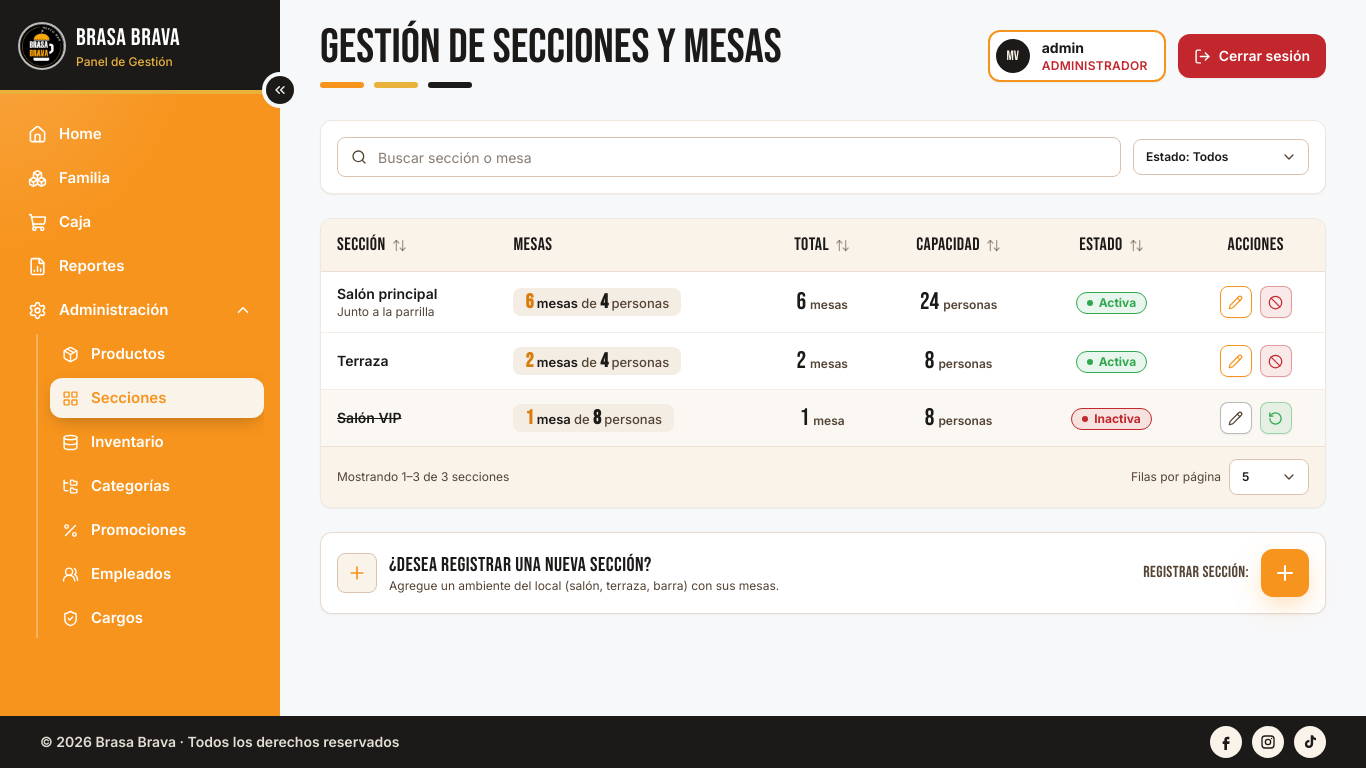
Test: Gestión de secciones y mesas › modifica mesas conservando sus ids
The image size is (1366, 768).
Expected: the text "Salón principal" is shown, [337,285,437,302]
Click the button named "Modificar Terraza" at (1236, 361), box [1220,345,1252,377]
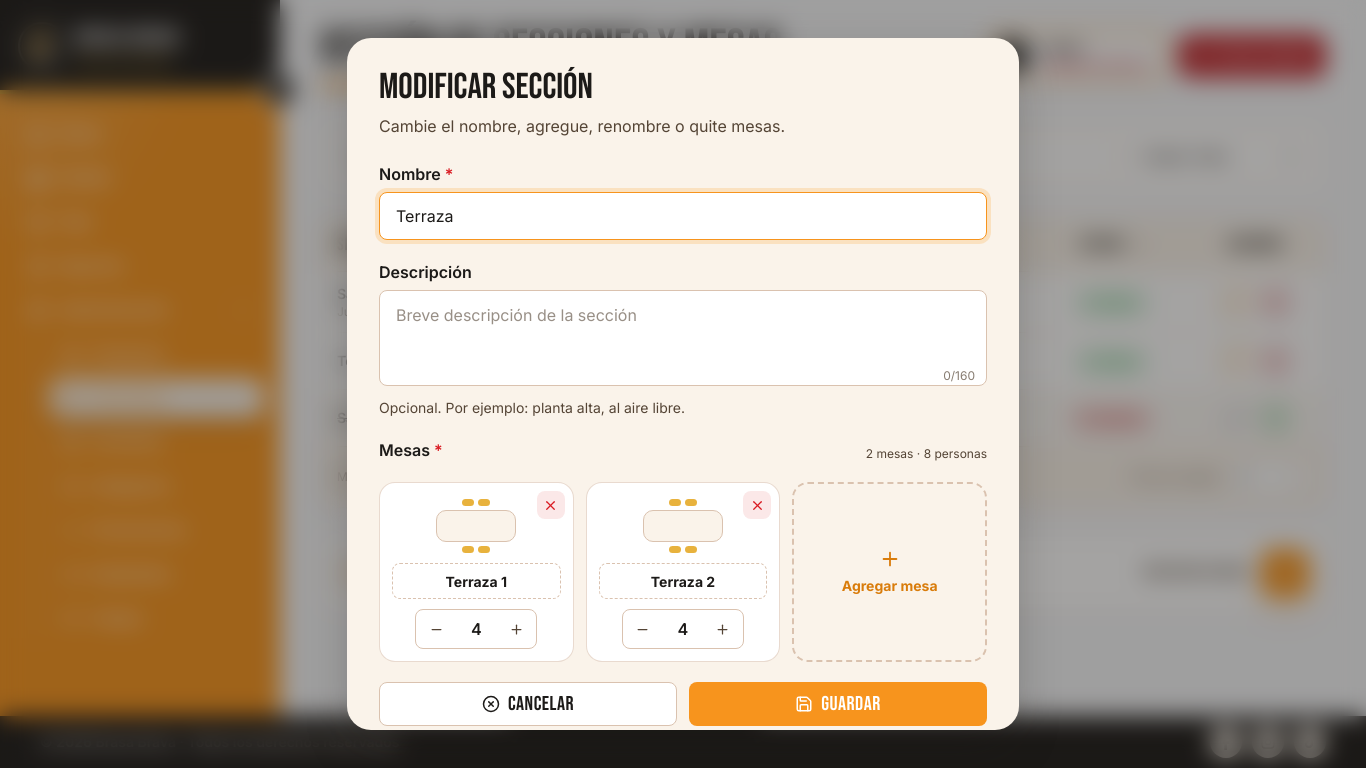
Click the button named "Restar capacidad de Terraza 1" at (436, 629), box [416,609,456,649]
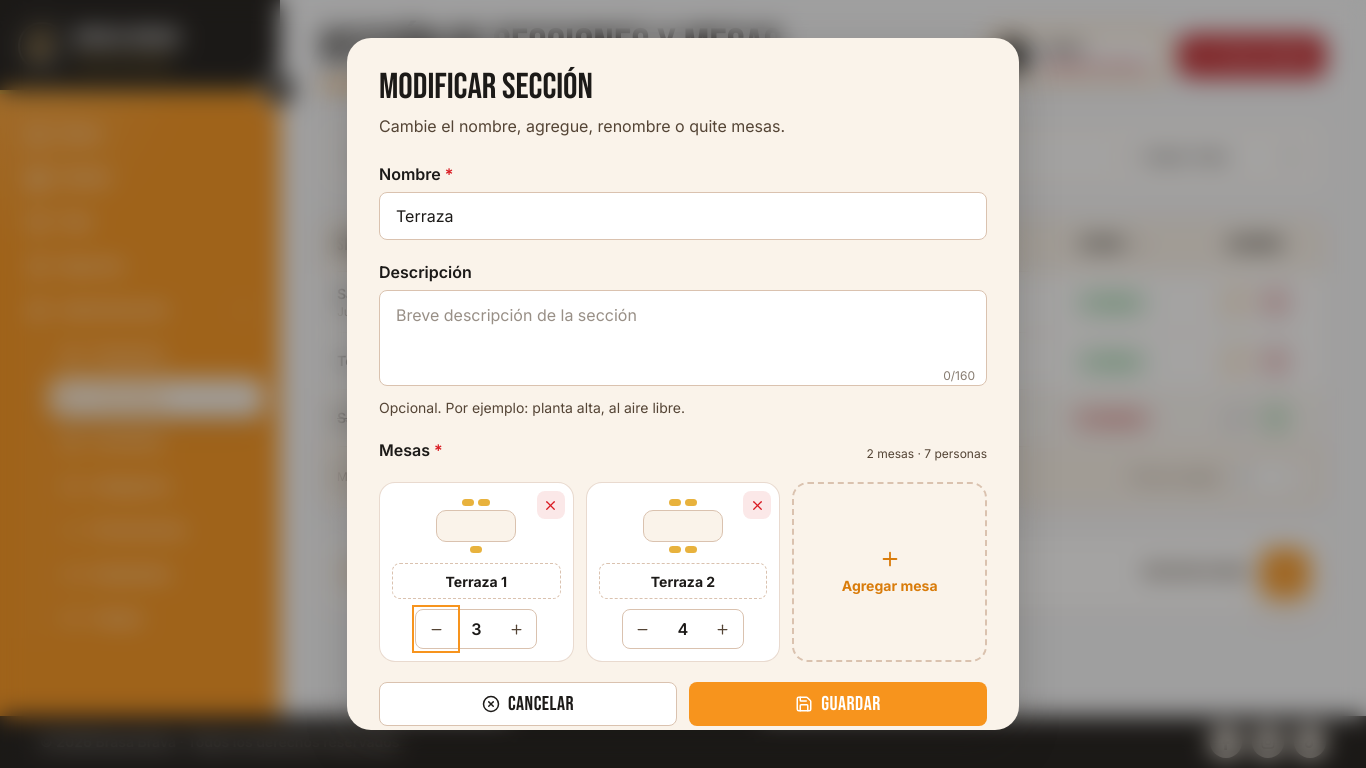
Click the button named "Quitar Terraza 2" at (757, 505), box [743,491,771,519]
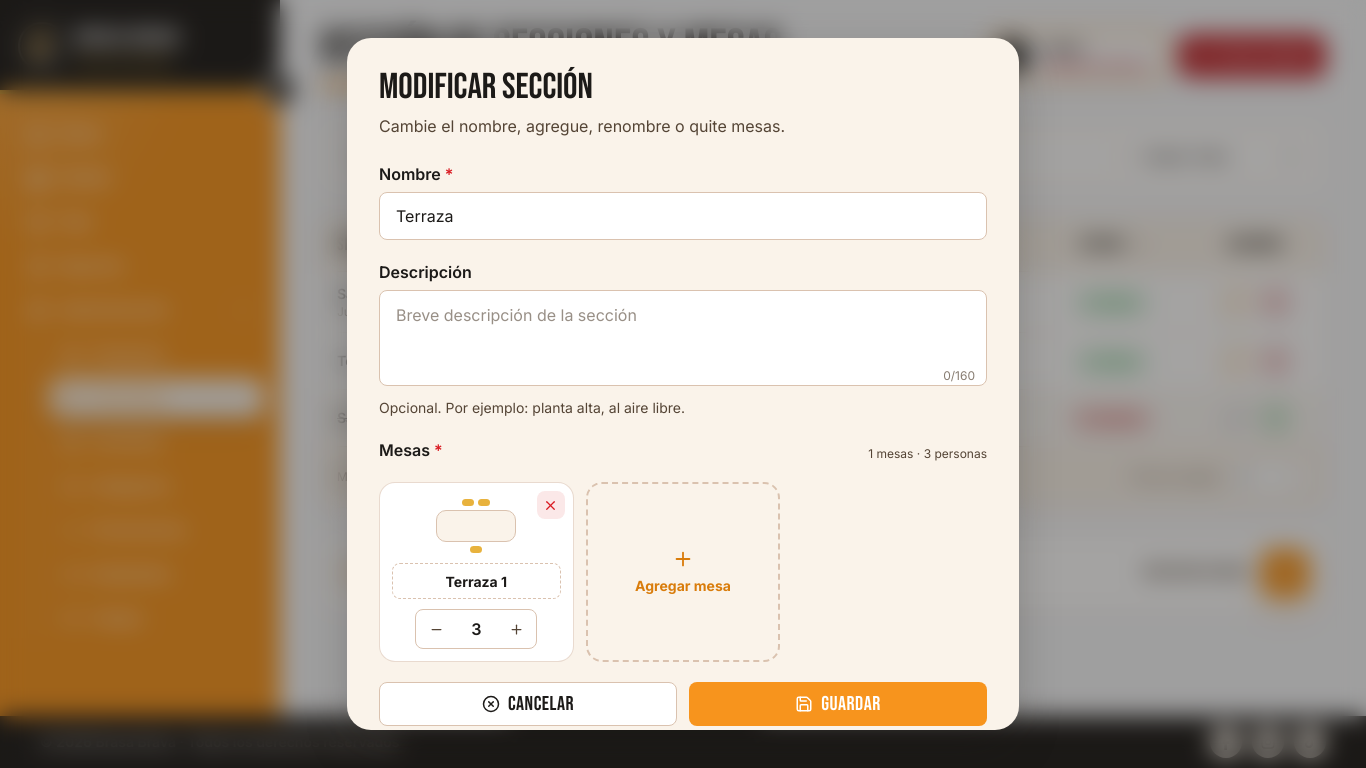
Click the button "Agregar mesa" at (683, 572), box [586,482,780,662]
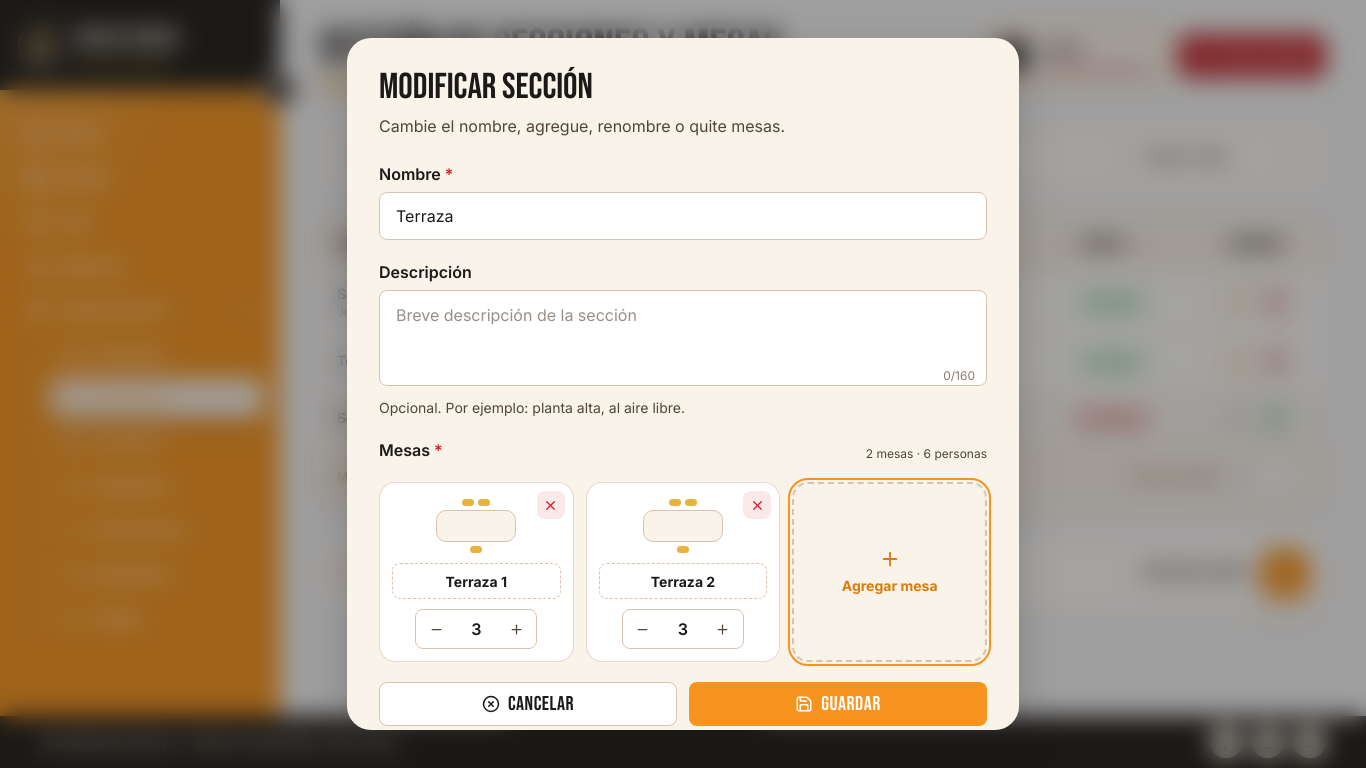
Click the button "Guardar" at (838, 704), box [689,682,987,726]
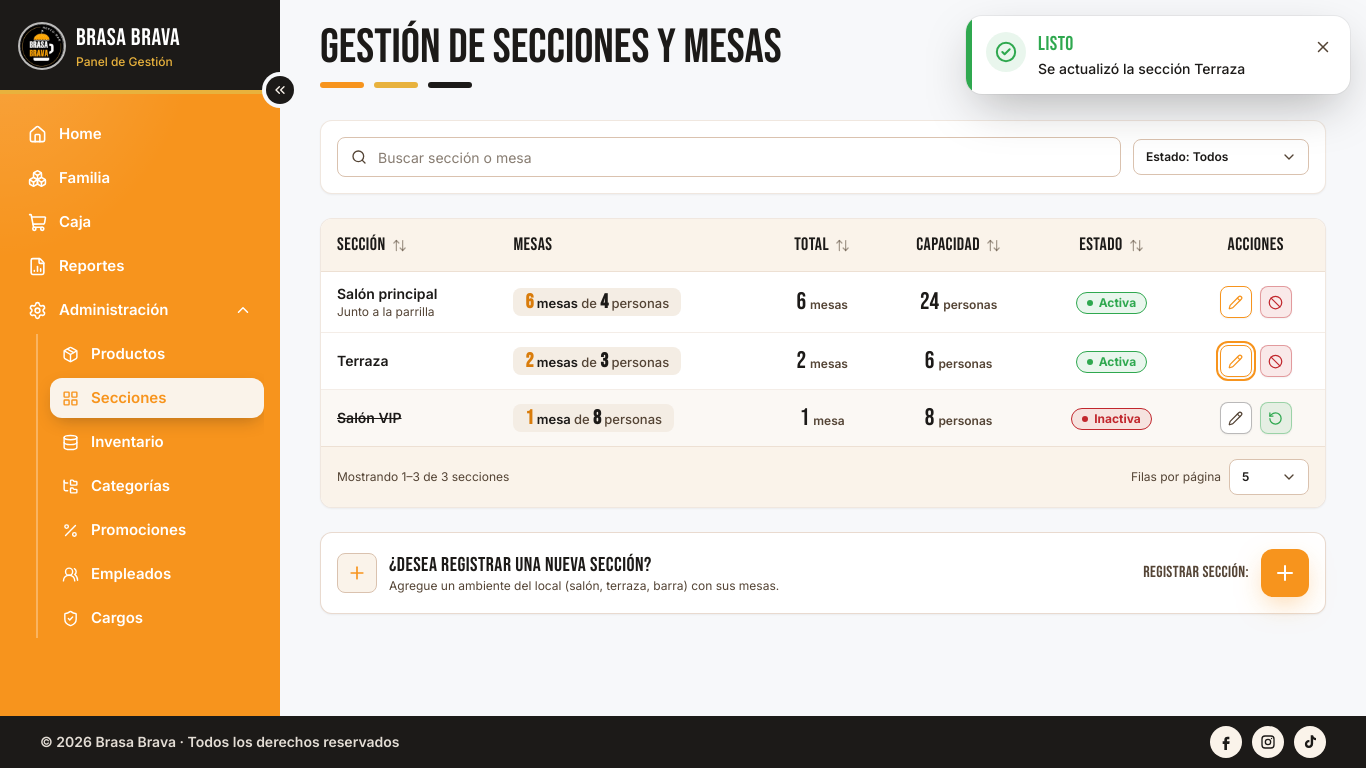
Result: the text "Se actualizó la sección Terraza" is shown at [1038,60,1245,77]
